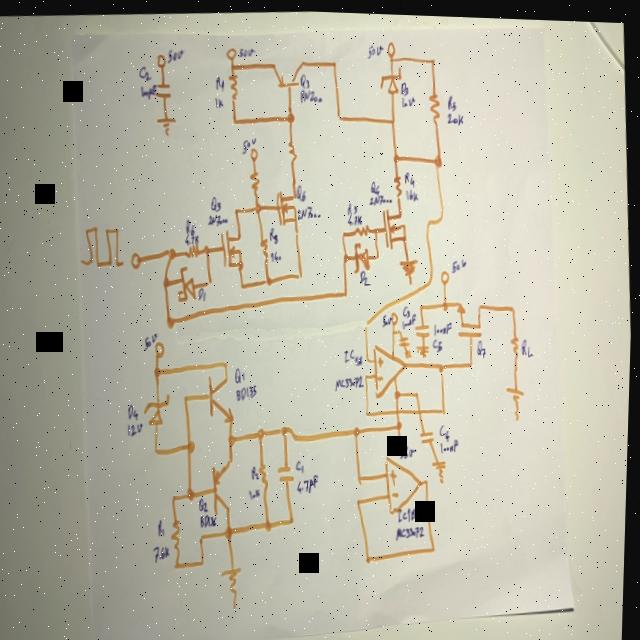capacitor: (278, 458, 298, 485), (155, 78, 173, 101), (415, 318, 433, 338), (421, 426, 438, 441), (399, 331, 412, 344)
crossover: (418, 403, 425, 413), (397, 404, 403, 412)
diode: (145, 390, 174, 426), (178, 262, 199, 303), (379, 63, 403, 93), (352, 238, 372, 272)
ground: (224, 560, 247, 608), (507, 381, 528, 418), (400, 254, 422, 282), (156, 112, 178, 138), (434, 454, 450, 480), (417, 338, 432, 355), (406, 346, 415, 356)
junction: (281, 420, 294, 437), (211, 193, 224, 210), (226, 521, 237, 539), (188, 437, 199, 454), (265, 515, 276, 531), (434, 150, 444, 167), (186, 217, 196, 234), (167, 312, 177, 328), (286, 108, 297, 122), (162, 273, 172, 288), (168, 244, 178, 259), (254, 199, 264, 213), (189, 485, 198, 500), (229, 430, 238, 444), (154, 364, 163, 378), (259, 424, 268, 438), (429, 267, 436, 285), (438, 357, 447, 370), (203, 242, 212, 254), (265, 273, 274, 285), (354, 422, 362, 435), (443, 297, 451, 309), (184, 390, 192, 402), (397, 205, 405, 217), (173, 490, 180, 503), (439, 208, 446, 221), (397, 417, 405, 428), (396, 386, 404, 397), (291, 512, 298, 524), (155, 444, 162, 456), (426, 214, 433, 226), (208, 273, 215, 285), (201, 530, 208, 542), (176, 558, 184, 568), (201, 555, 209, 565), (419, 298, 426, 309), (393, 150, 400, 160), (331, 56, 338, 66), (368, 550, 375, 560), (343, 250, 350, 260), (390, 113, 397, 123), (511, 300, 518, 310), (298, 268, 305, 278), (358, 493, 365, 503), (336, 109, 343, 119), (469, 355, 476, 365), (234, 204, 241, 214), (240, 278, 247, 288), (442, 402, 449, 412), (359, 471, 366, 481), (366, 405, 373, 415), (429, 52, 436, 62), (232, 114, 239, 124), (224, 357, 231, 367), (373, 223, 380, 233), (477, 298, 484, 308), (364, 316, 371, 326), (344, 286, 350, 295), (434, 541, 440, 550), (416, 386, 421, 396), (427, 474, 432, 484), (230, 60, 235, 69), (342, 228, 347, 236), (367, 354, 372, 362), (377, 249, 381, 258), (366, 370, 371, 377), (403, 231, 407, 239), (394, 325, 398, 333), (400, 325, 404, 332), (238, 231, 242, 236), (389, 55, 393, 59)
resistor: (172, 514, 186, 551), (428, 89, 443, 122), (259, 457, 272, 487), (249, 166, 262, 192), (228, 72, 240, 100), (355, 220, 373, 237), (259, 234, 271, 259), (287, 136, 298, 162), (394, 170, 404, 197), (186, 241, 202, 257), (511, 332, 522, 355)
terminal: (155, 50, 168, 69), (569, 595, 582, 613), (132, 251, 143, 269), (156, 339, 167, 357), (225, 44, 238, 59), (441, 266, 452, 282), (386, 38, 396, 55), (250, 145, 260, 160), (392, 307, 401, 323), (398, 432, 407, 446)
text: (80, 222, 126, 272), (336, 370, 367, 391), (298, 470, 322, 494), (398, 521, 428, 539), (296, 201, 323, 219), (236, 381, 260, 401), (346, 344, 365, 365), (155, 542, 174, 563), (300, 85, 323, 102), (201, 510, 221, 528), (208, 210, 229, 227), (140, 81, 158, 100), (400, 502, 419, 520), (442, 434, 462, 451), (370, 190, 393, 204), (144, 330, 160, 350), (366, 39, 384, 56), (435, 317, 454, 333), (402, 441, 421, 457), (447, 108, 465, 124), (403, 309, 419, 327), (166, 45, 185, 60), (243, 134, 258, 153), (522, 333, 535, 354), (452, 254, 468, 271), (128, 421, 146, 436), (360, 265, 373, 285), (129, 402, 142, 421), (296, 180, 308, 200), (238, 44, 256, 57), (269, 225, 280, 246), (441, 420, 453, 439), (236, 364, 249, 381), (478, 335, 489, 355), (299, 70, 311, 88), (215, 73, 226, 92), (405, 167, 416, 186), (139, 64, 152, 80), (447, 90, 458, 108), (402, 91, 416, 105), (251, 484, 264, 499), (407, 184, 420, 199), (433, 334, 445, 350), (348, 211, 363, 223), (159, 518, 169, 535), (186, 233, 201, 244), (383, 310, 394, 325), (371, 176, 381, 191), (201, 494, 211, 509), (403, 301, 413, 316), (215, 94, 225, 108), (199, 286, 208, 301), (298, 456, 308, 469), (400, 79, 409, 93), (347, 200, 358, 211), (271, 248, 282, 259), (254, 462, 262, 476)
transistor: (206, 370, 236, 424), (211, 456, 237, 512), (382, 203, 411, 247), (272, 55, 306, 88), (457, 297, 484, 337), (218, 226, 245, 266), (275, 186, 298, 225)
